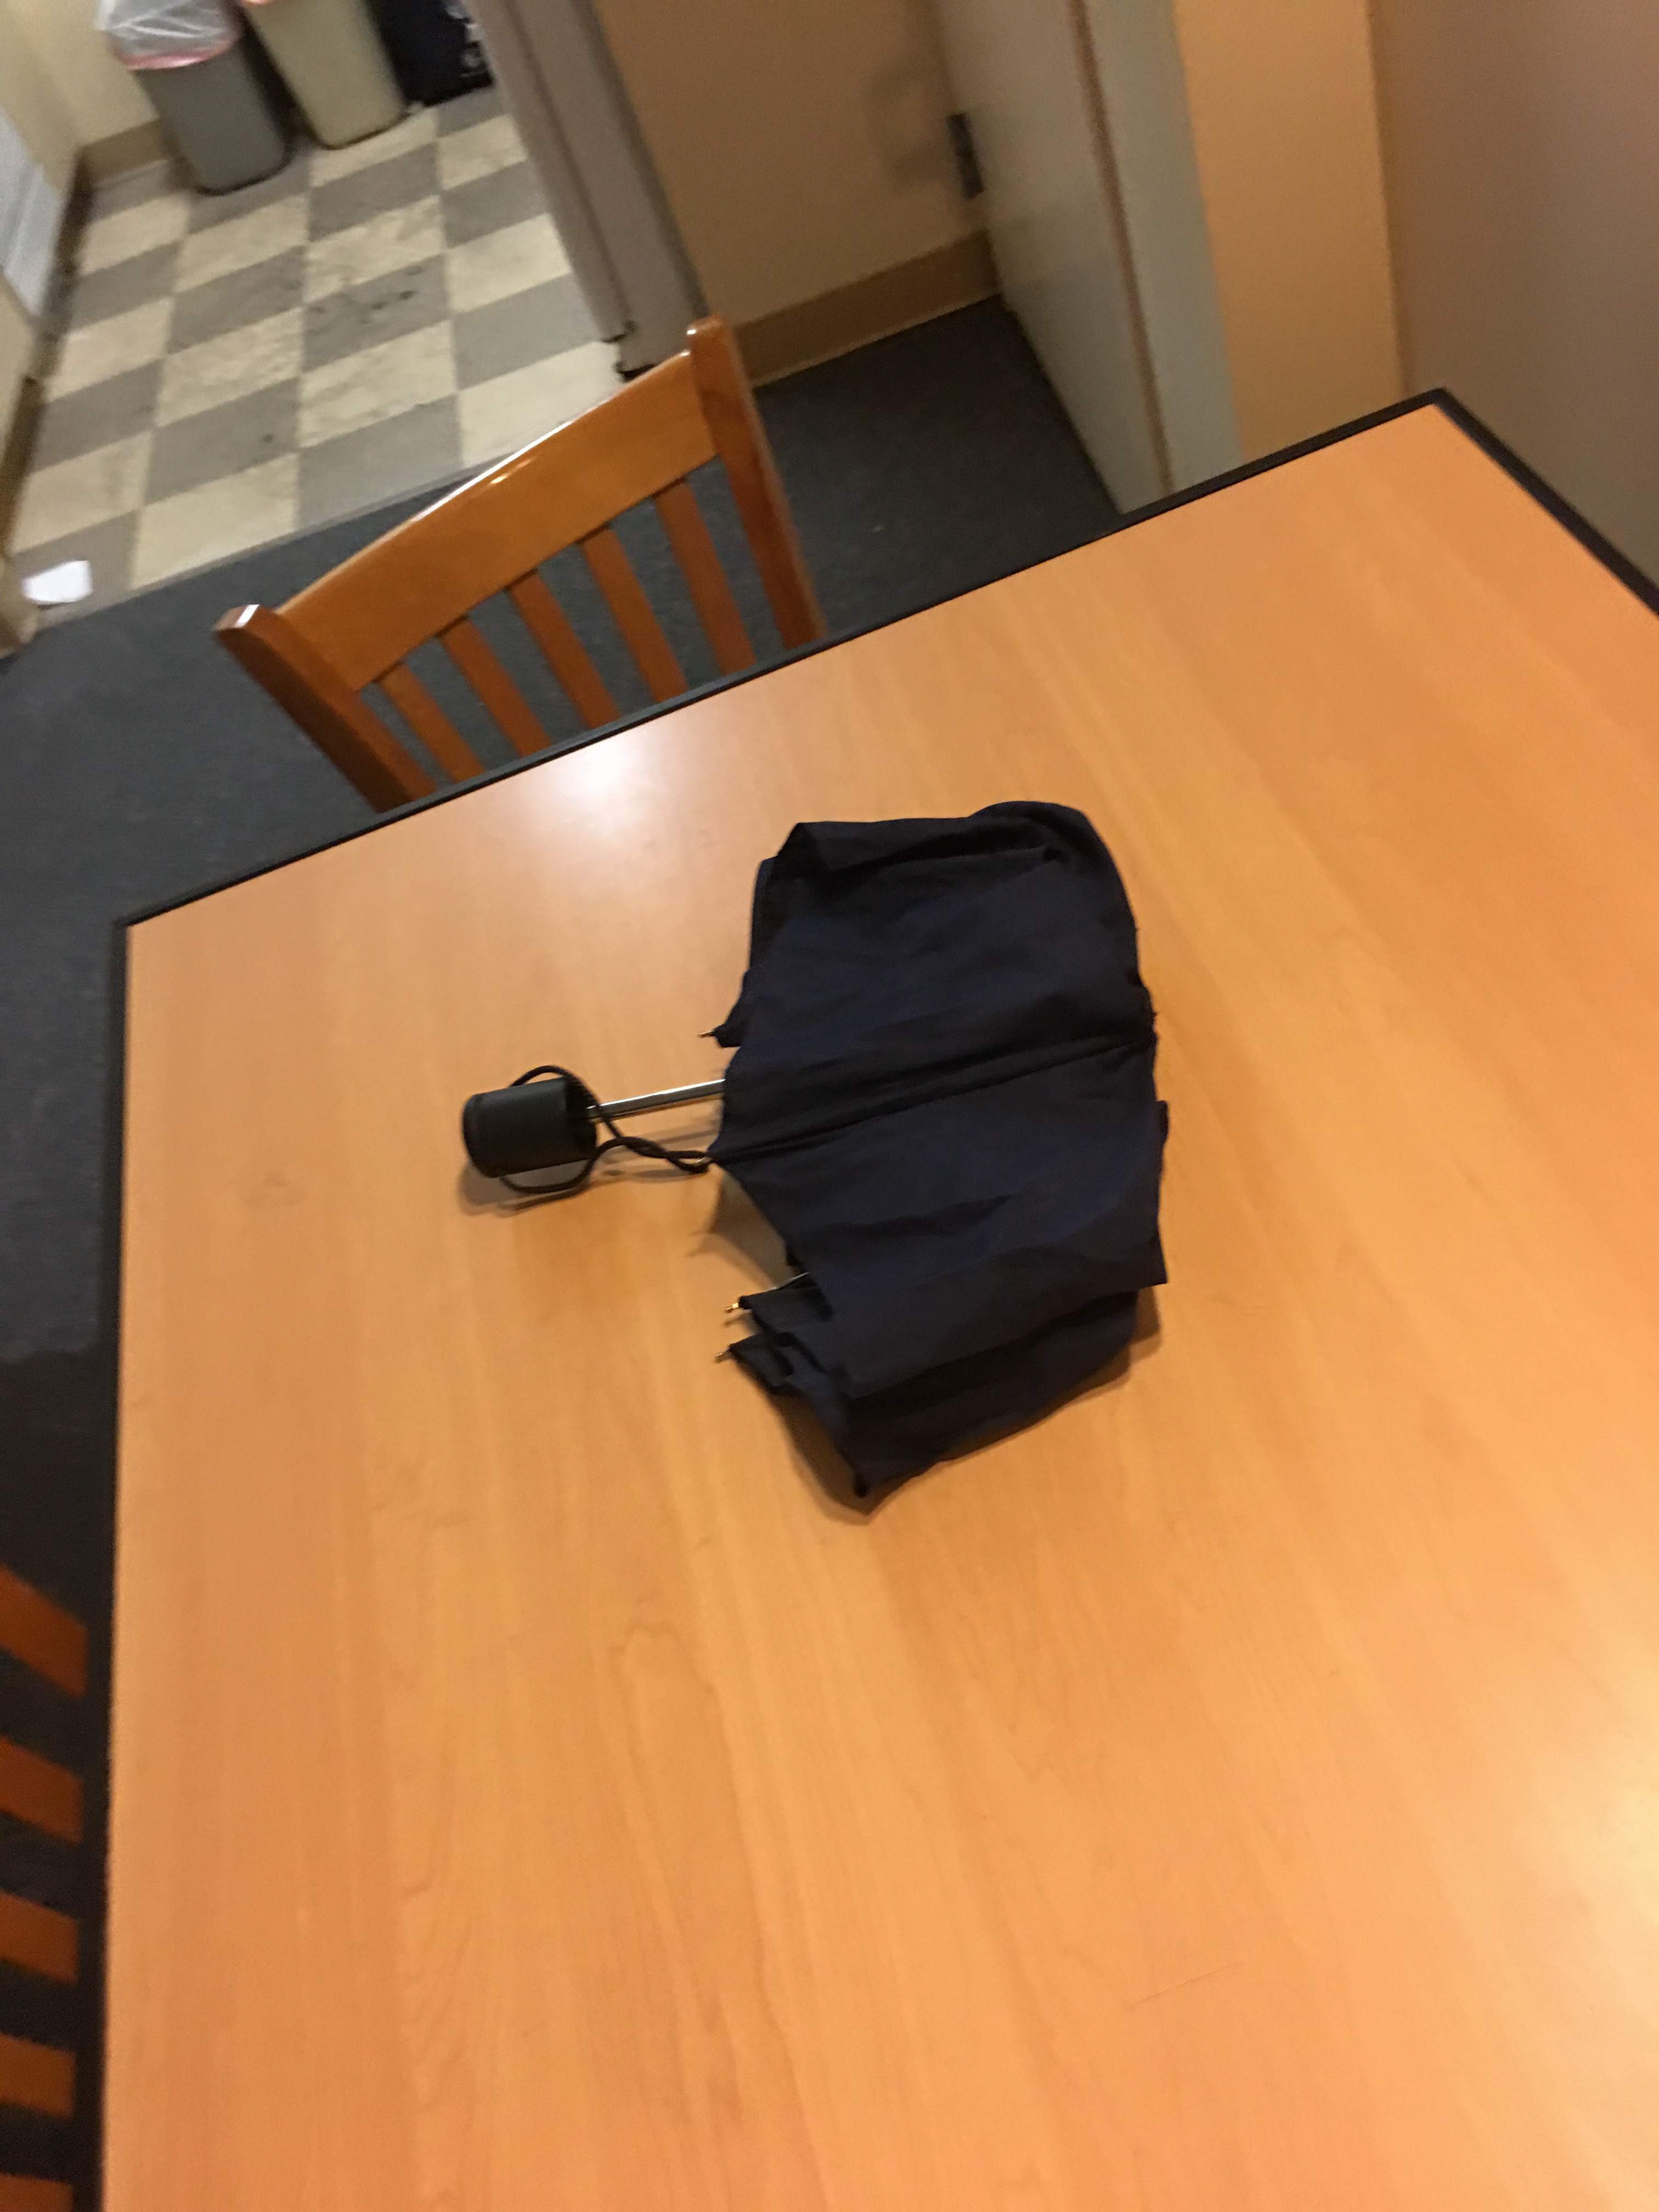Umbrella: (451, 794, 1182, 1493)
